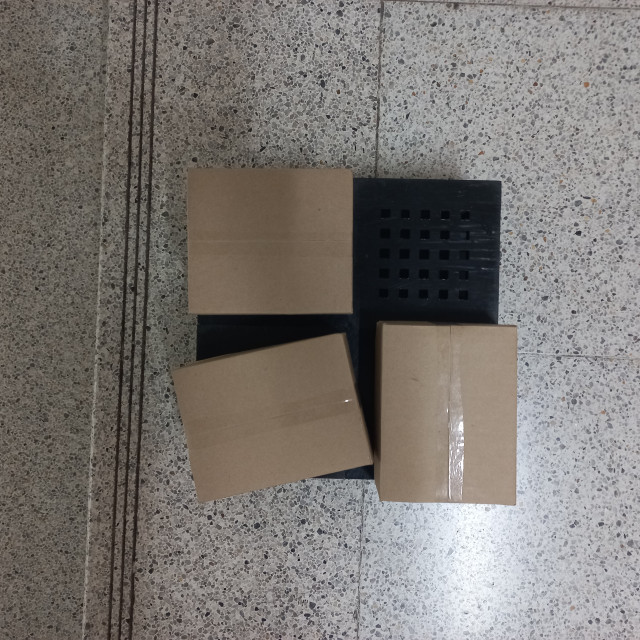box: (169, 329, 373, 507), (181, 167, 357, 318), (377, 320, 519, 507)
